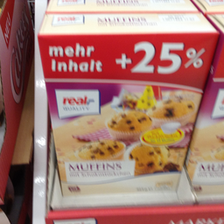cake: (35, 11, 218, 198)
